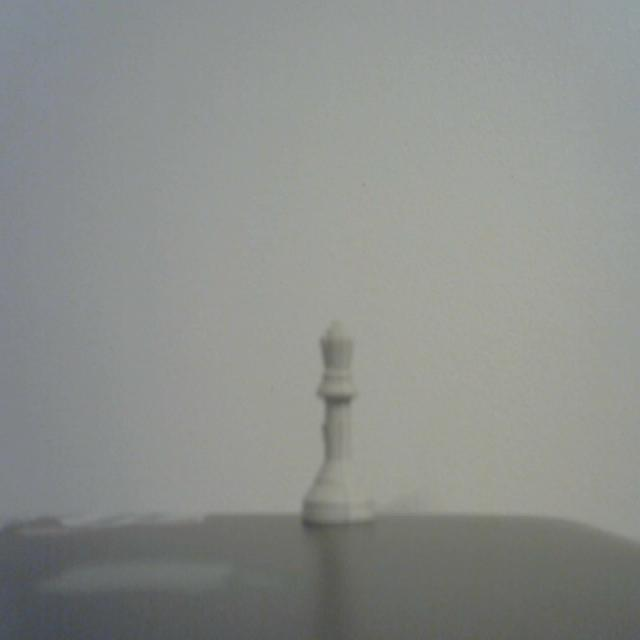white-queen: (270, 309, 399, 537)
